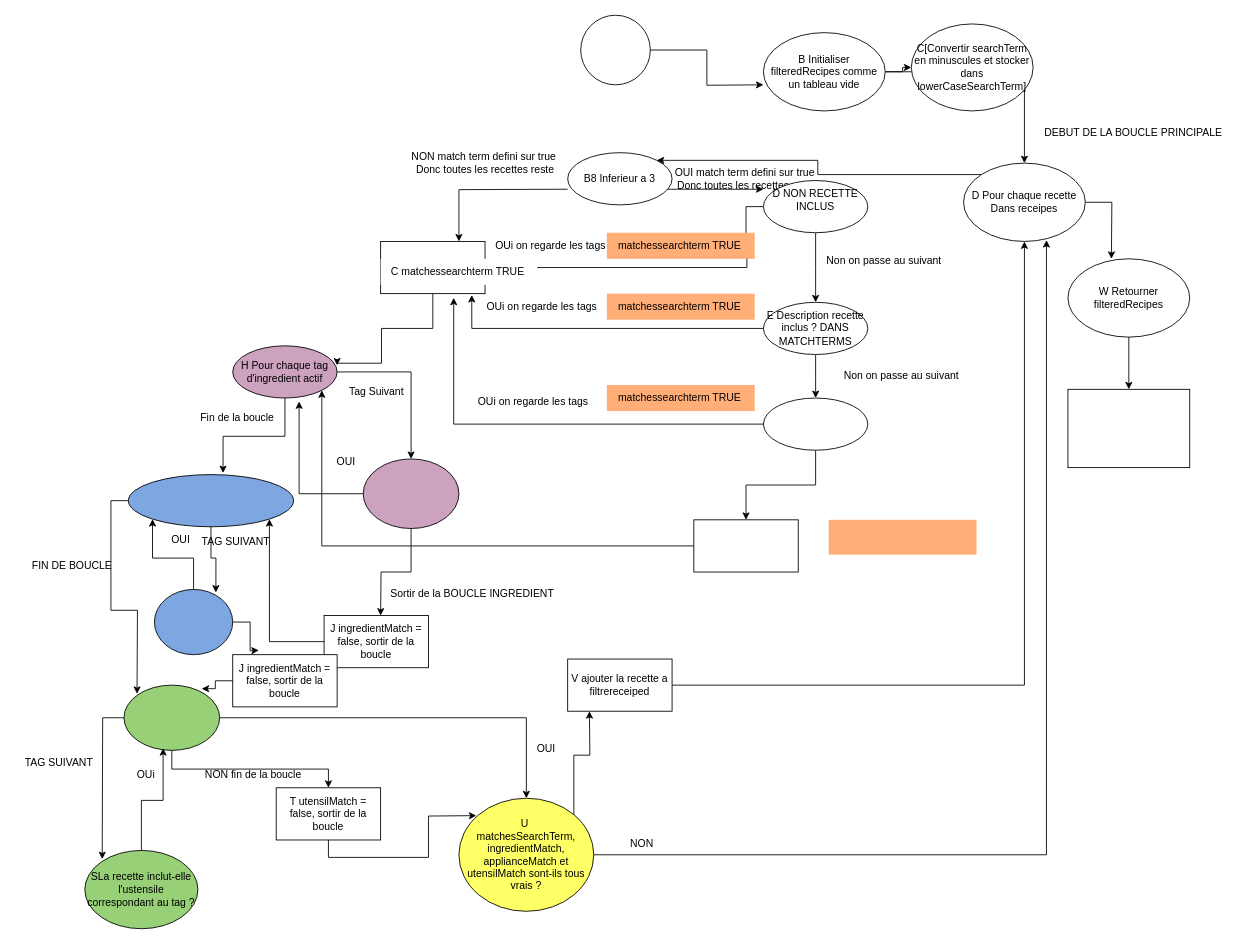
Image size: 1248x944. Some labels were removed from this diagram. The shapes that lost their labels are listed below. From the top down, each one's centre as x and y in pixels, then its label:
point (615, 49): A START
point (815, 423): F Ingredient est il inclu ? DANS MATCHTERM
point (1128, 428): X FIN
point (210, 500): K L'appareil de la recette correspond il à au moins un tag d'appareil actif ?
point (410, 493): I La recette contient-elle l'ingrédient correspondant au tag ?
point (745, 545): G RECHECHE INFRUTUEUS
point (902, 536): matchessearchterm FALSE
point (193, 622): LL'appareil de la recette correspond-il au tag ?
point (171, 717): R Pour chaque tag d'ustensile actif
